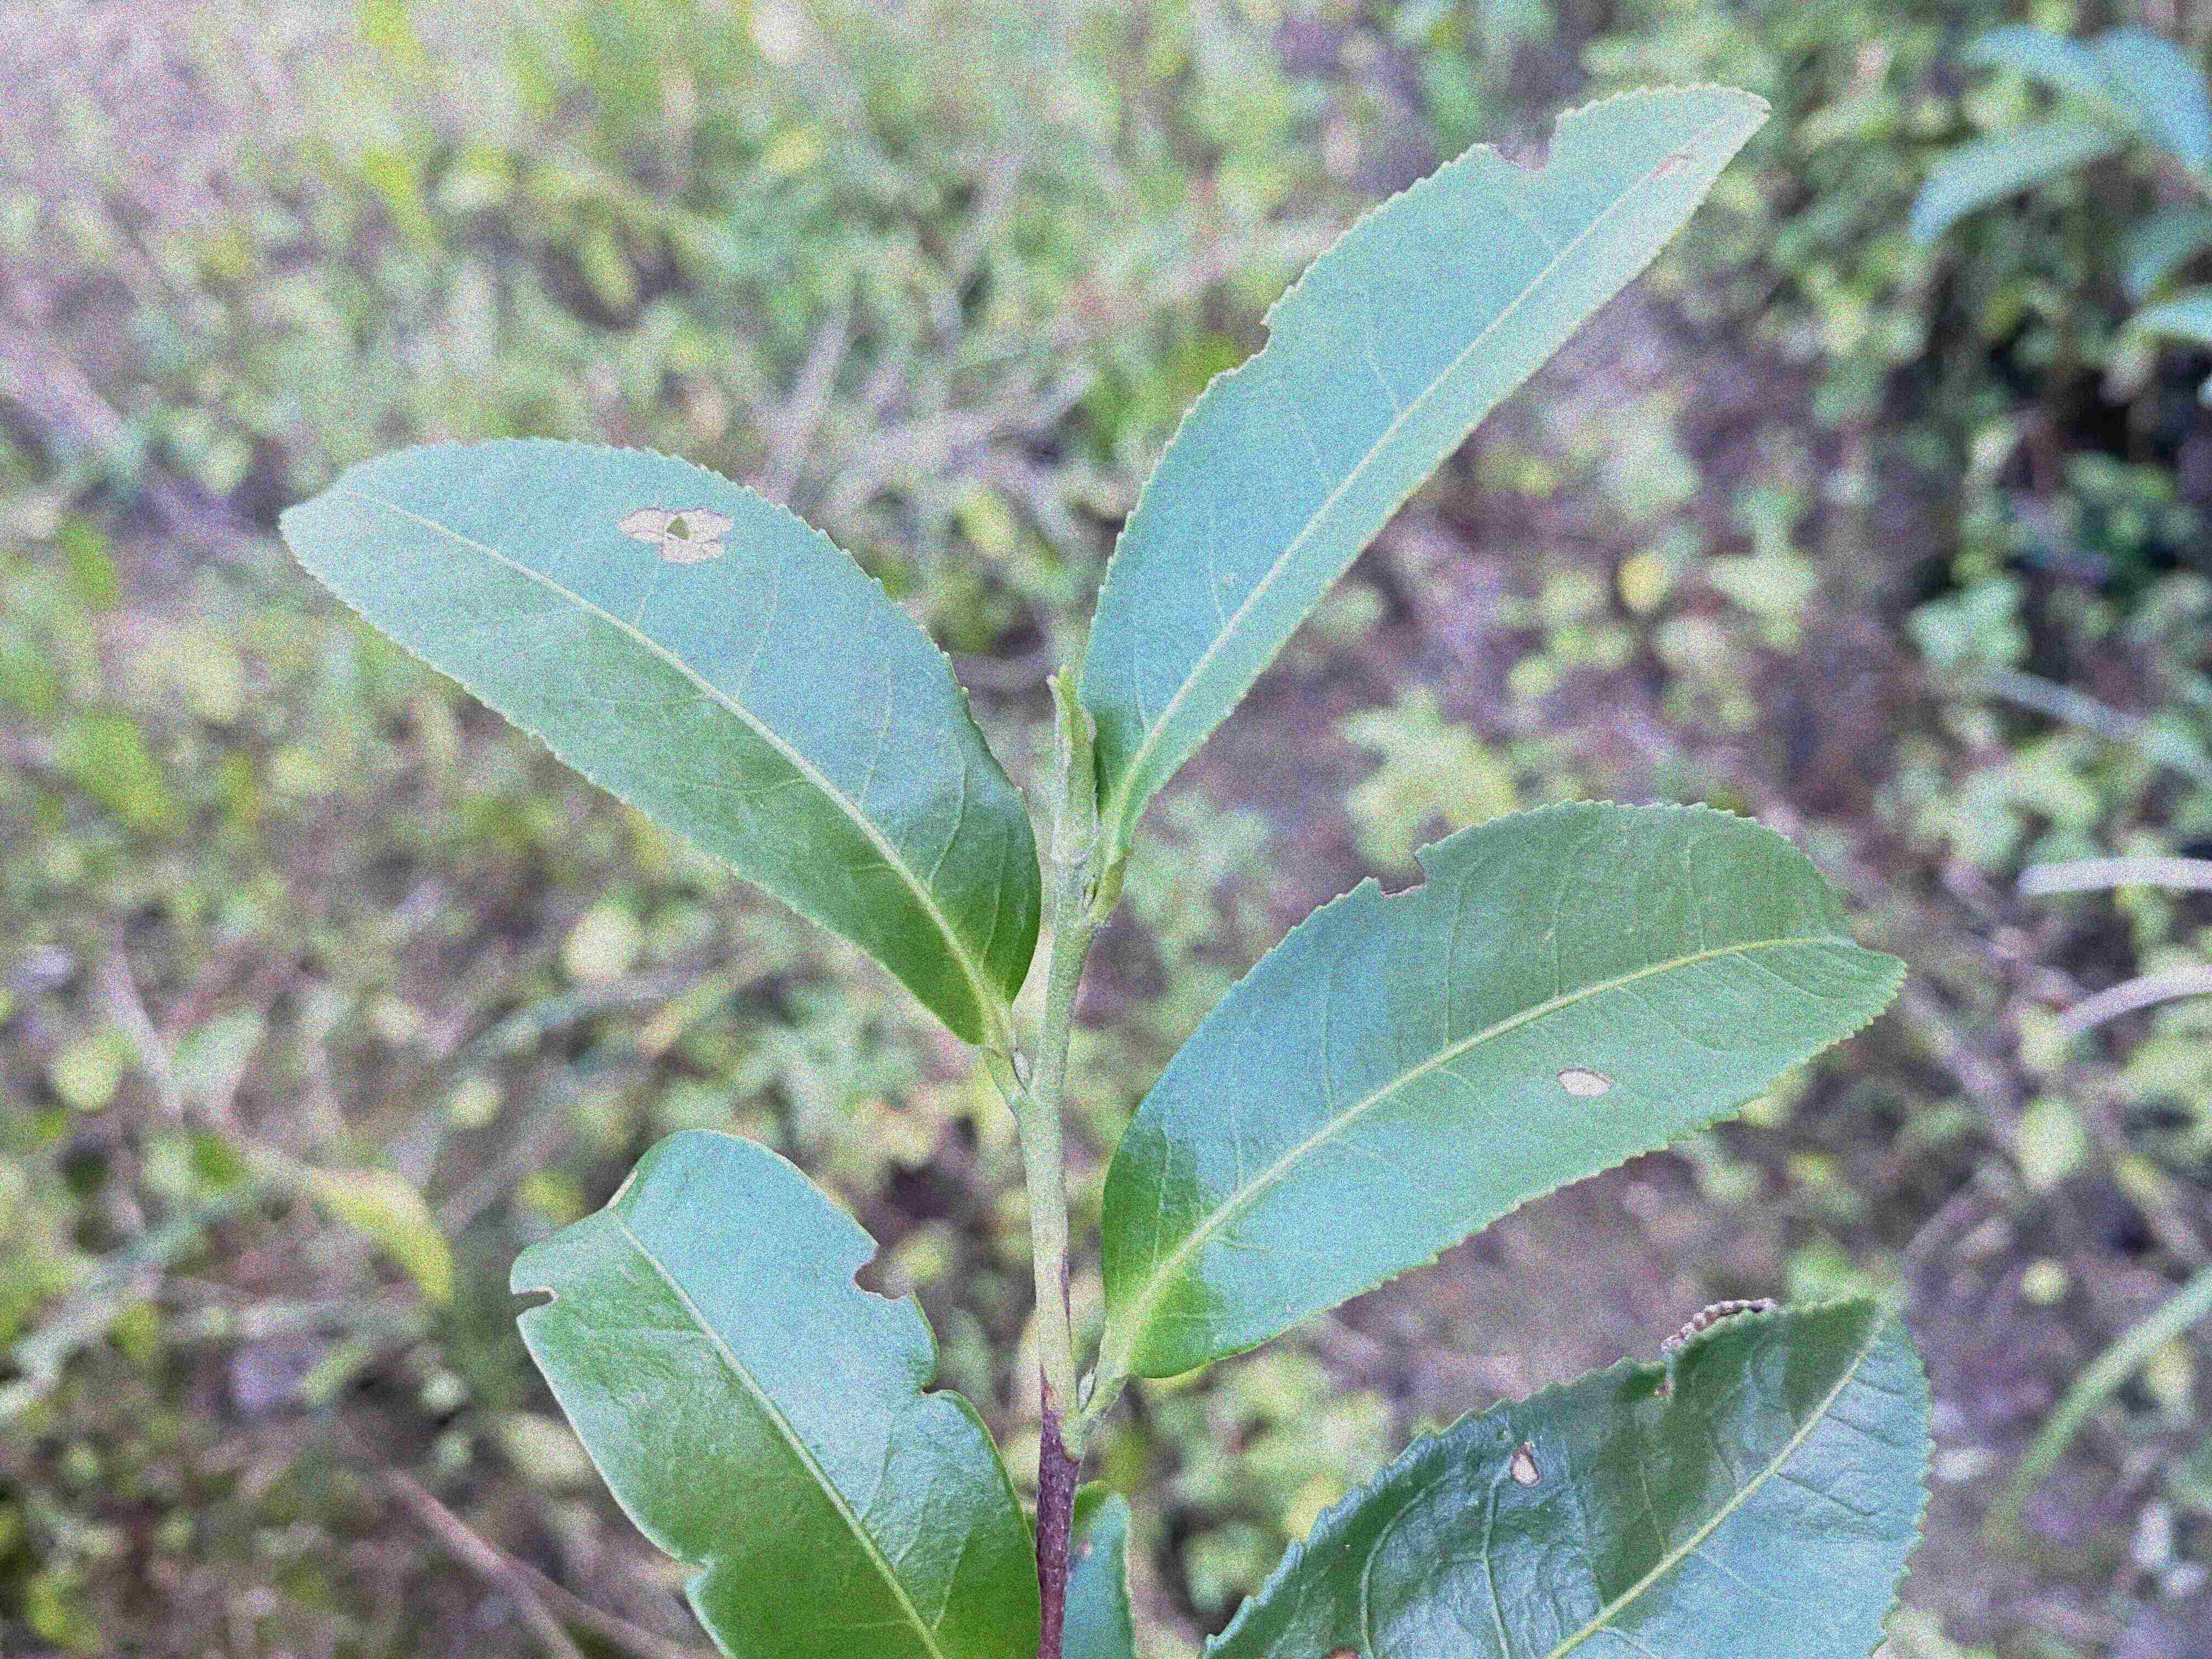chihuo_high: (1075, 82, 1775, 857), (505, 1127, 1045, 1654)
tanju_high: (272, 432, 1045, 1053)
